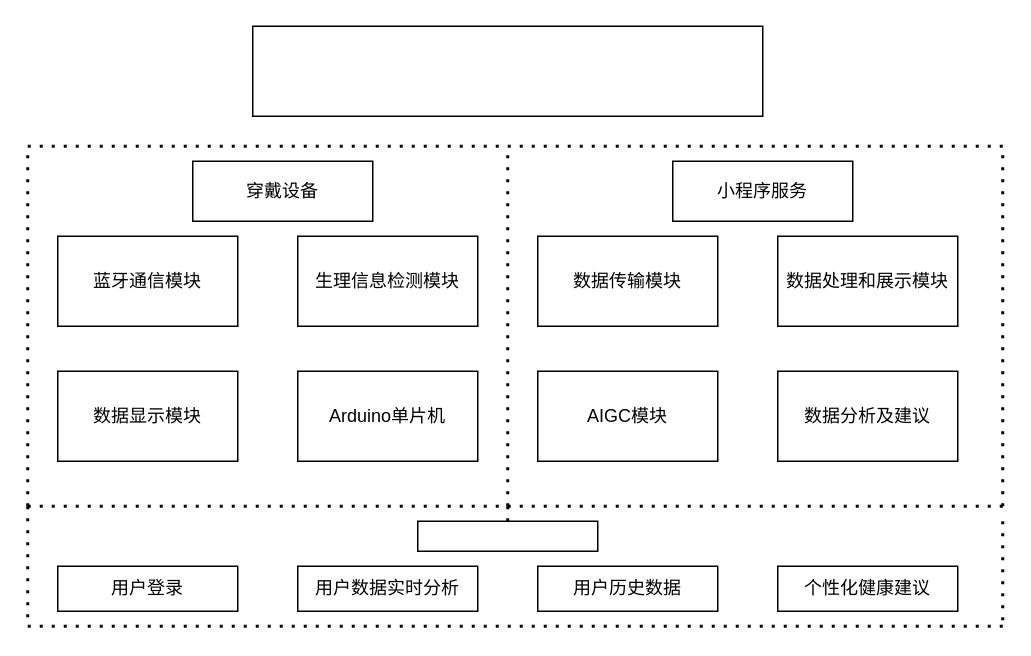
This 1031x656 diagram has some shape labels left out. The shapes that lost their labels are listed below. From the top down, each one's box as (x1, y1, x2, y2) in pixels, then its label:
(251, 25, 763, 116): 基于 AIGC 和穿戴设备的智能健康小助手
(416, 520, 598, 551): 用户管理
